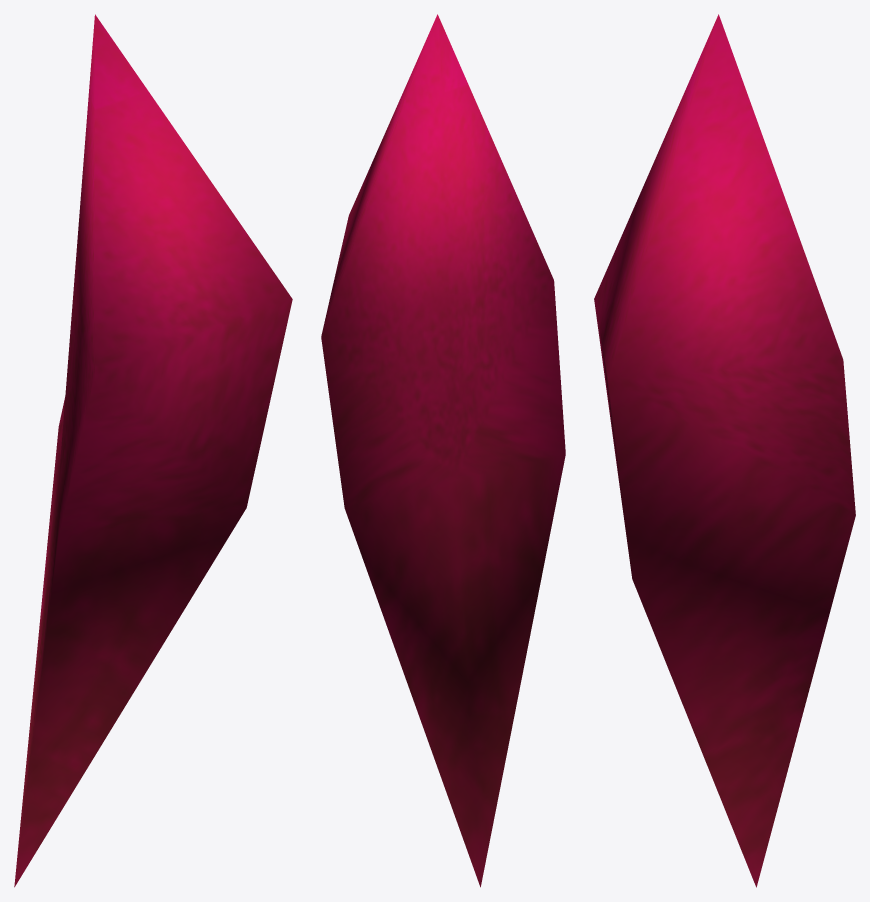
The model's file is spaceship-damaged-piece1.fbx.
3 renders of one model, left to right at view 1: azimuth 30°, elevation 25°; view 2: azimuth 150°, elevation 25°; view 3: azimuth 270°, elevation 25°, orthographic. The views are drawn at different scales.
Parts seen in each view (by area): view 1: polySurface14; view 2: polySurface14; view 3: polySurface14.
Boxes of the visible parts, x1,y1,x2,y2 form: polySurface14: (14,14,292,887); polySurface14: (321,14,565,887); polySurface14: (594,14,855,887).
Bounding box in the file's own units: 0.6793 × 2.47 × 0.6483.
Materials: 1 (1 with a texture image).
